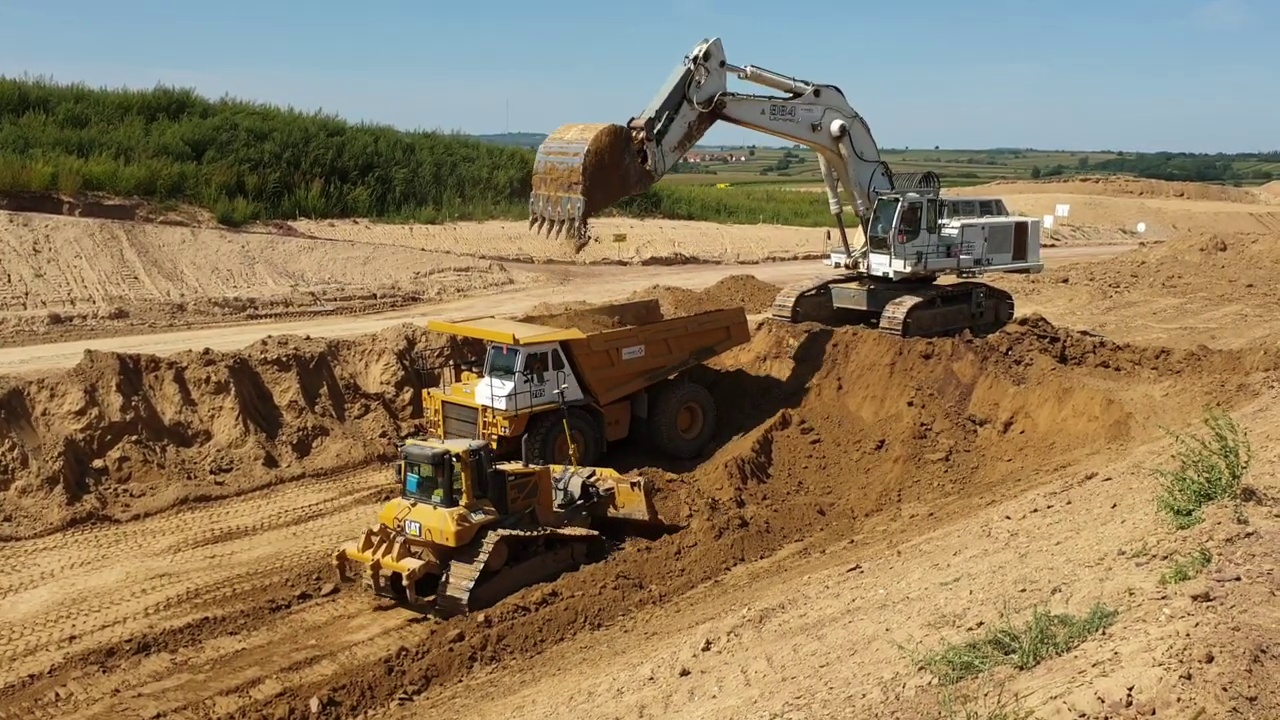bulldozer: (332, 385, 661, 617)
excavator: (519, 30, 1047, 341)
truck: (401, 293, 759, 490)
